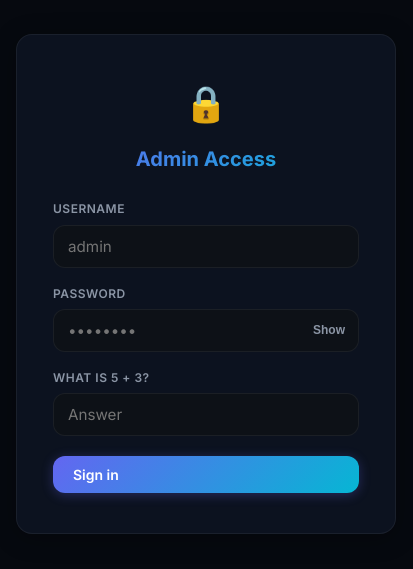
Scenario: PinGate › shows error message for incorrect credentials
The width and height of the screenshot is (413, 569).
Step 1. Type "wrong" into the field with placeholder "admin" → (206, 246), box 53,225 -> 359,268
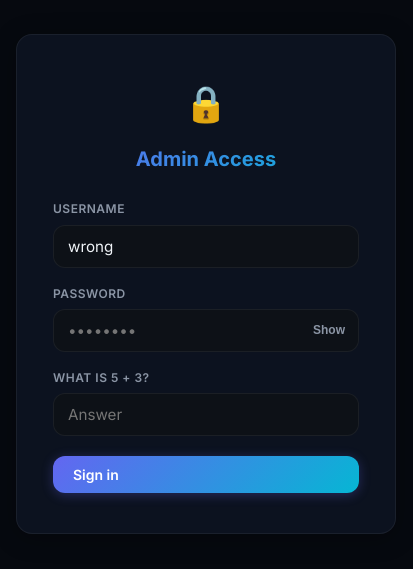
Step 2. Type "0000" into the password field with placeholder "••••••••" → (206, 330), box 53,309 -> 359,352
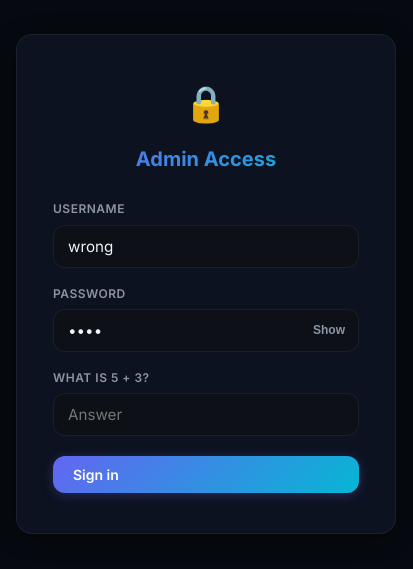
Step 3. Type "8" into the field with placeholder "Answer" → (206, 414), box 53,393 -> 359,436
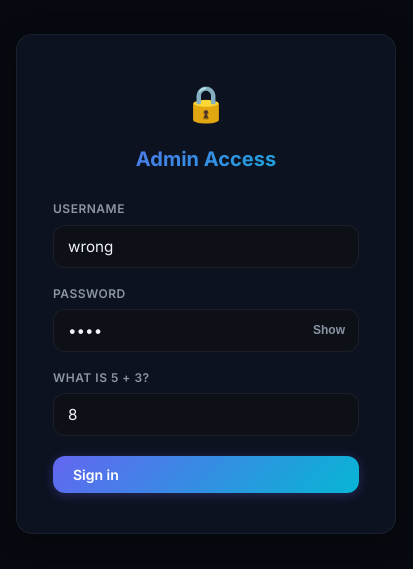
Step 4. Click the button "Sign in" → (96, 474), box 53,456 -> 359,493
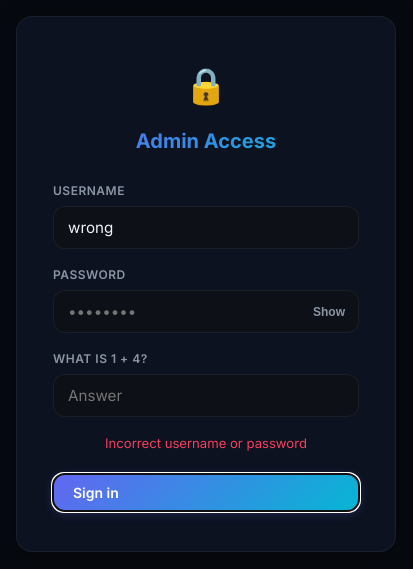
Expected: the text "Incorrect username or password" is shown, 105,435 -> 307,451
